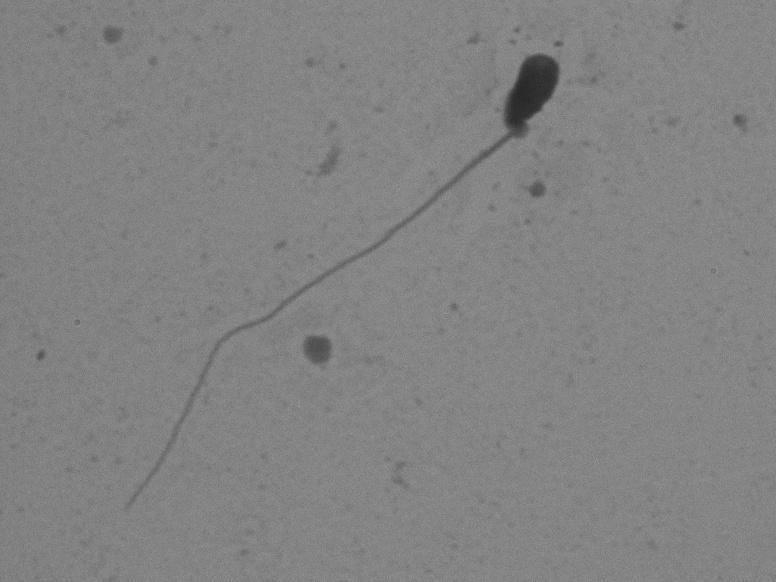Abnormal: (113, 30, 581, 544)
